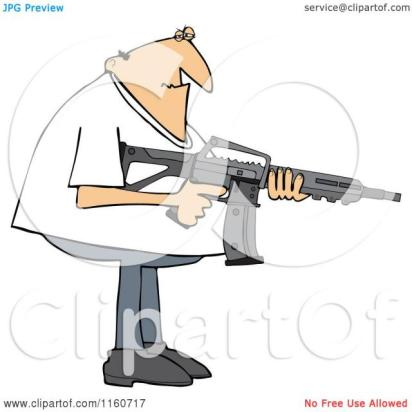Gun: (110, 137, 402, 269)
